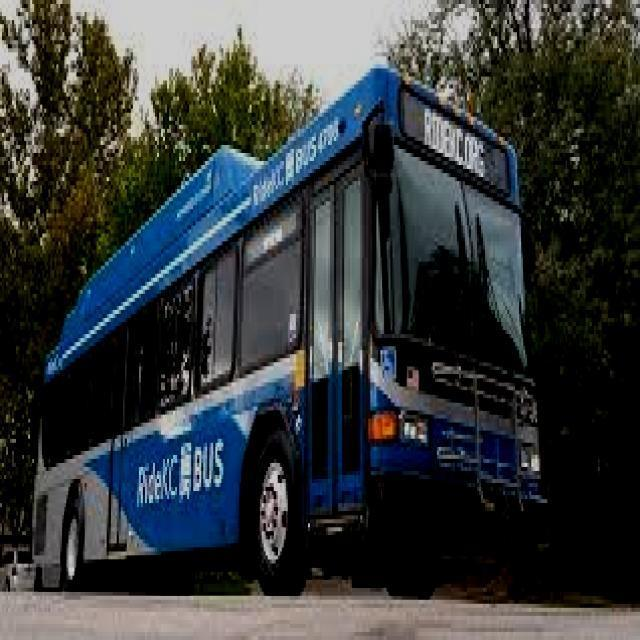Bus: (17, 62, 546, 599)
